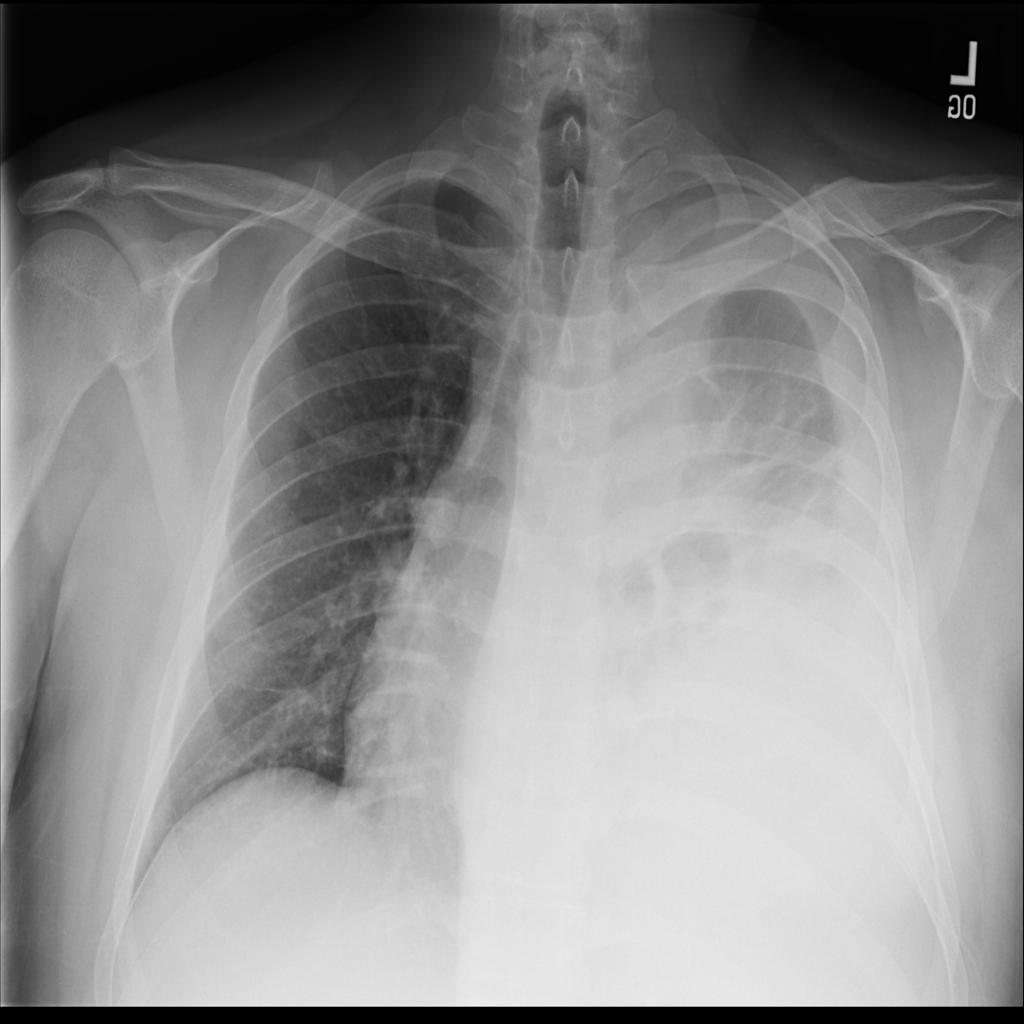nodule: (407, 473, 472, 556)
